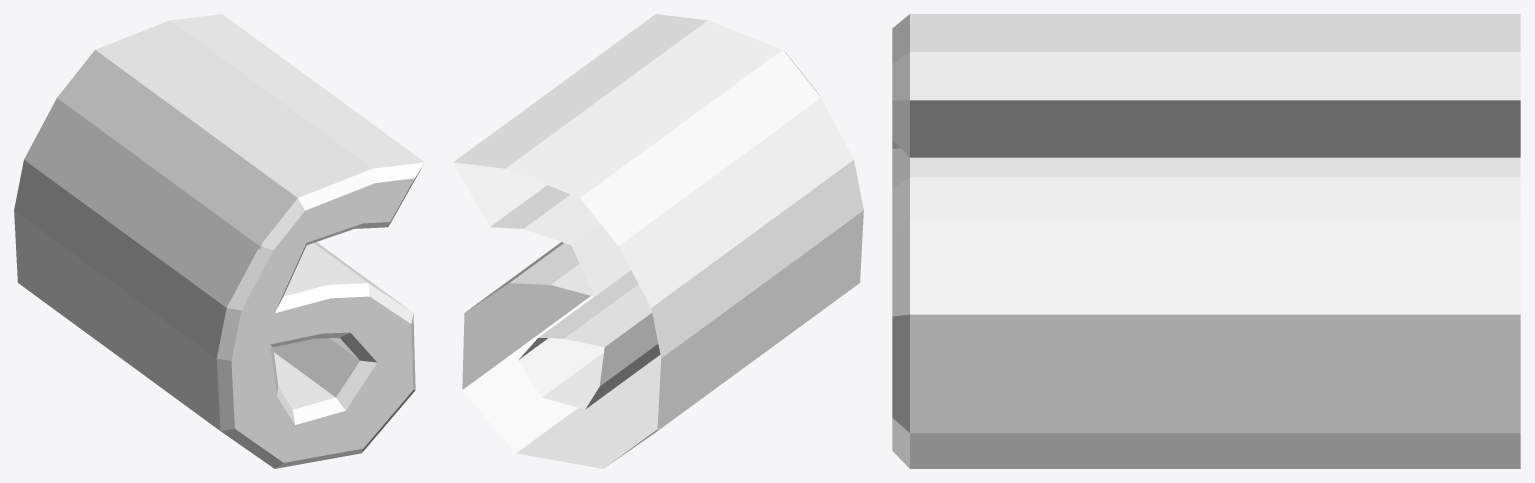
File: Number06.fbx
3 views of the same model, side by side, from view 1: azimuth 30°, elevation 25°; view 2: azimuth 150°, elevation 25°; view 3: azimuth 270°, elevation 25° (orthographic). The views are drawn at different scales.
Parts seen in each view (by area): view 1: Number06_Model; view 2: Number06_Model; view 3: Number06_Model.
Boxes of the visible parts, x1=… form: Number06_Model: x1=14, y1=14, x2=424, y2=468; Number06_Model: x1=453, y1=14, x2=863, y2=468; Number06_Model: x1=892, y1=14, x2=1520, y2=468.
Size of the model in its own units: 84.98 by 110 by 147.
Materials: 1 (1 with a texture image).
